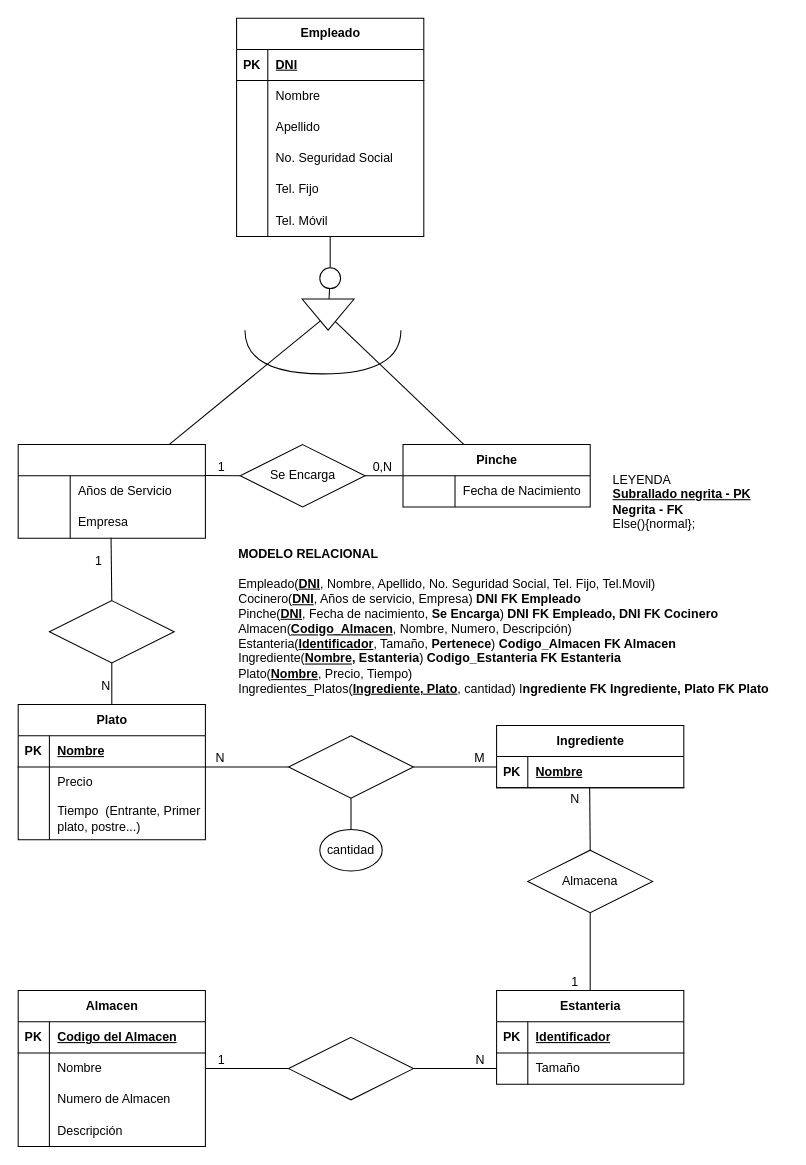
Image size: 806x1165. Some labels were removed from this diagram. Here are the shapes that lost their labels. From the top down, the box of each, then its label:
(17, 444, 205, 538): Cocinero
(48, 600, 174, 663): Cocina
(288, 735, 413, 798): Tiene
(288, 1036, 413, 1100): Contiene
